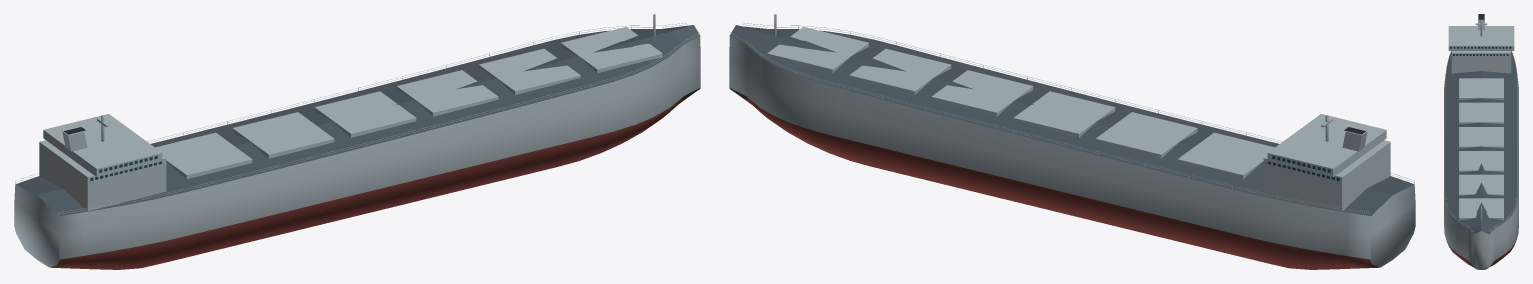
File: civ_merchant_bulk.glb
The picture shows the model from 3 angles, left to right: view 1: azimuth 30°, elevation 25°; view 2: azimuth 150°, elevation 25°; view 3: azimuth 270°, elevation 25°; orthographic projection. The views are drawn at different scales.
Parts seen in each view (by area): view 1: civ_merchant_bulk; view 2: civ_merchant_bulk; view 3: civ_merchant_bulk.
Part boxes in pixels (box(x1,y1,x2,y2)): civ_merchant_bulk: box(14, 14, 700, 269); civ_merchant_bulk: box(729, 14, 1415, 269); civ_merchant_bulk: box(1444, 14, 1518, 269).
Size of the model in its own units: 10 by 2.17 by 1.6.
